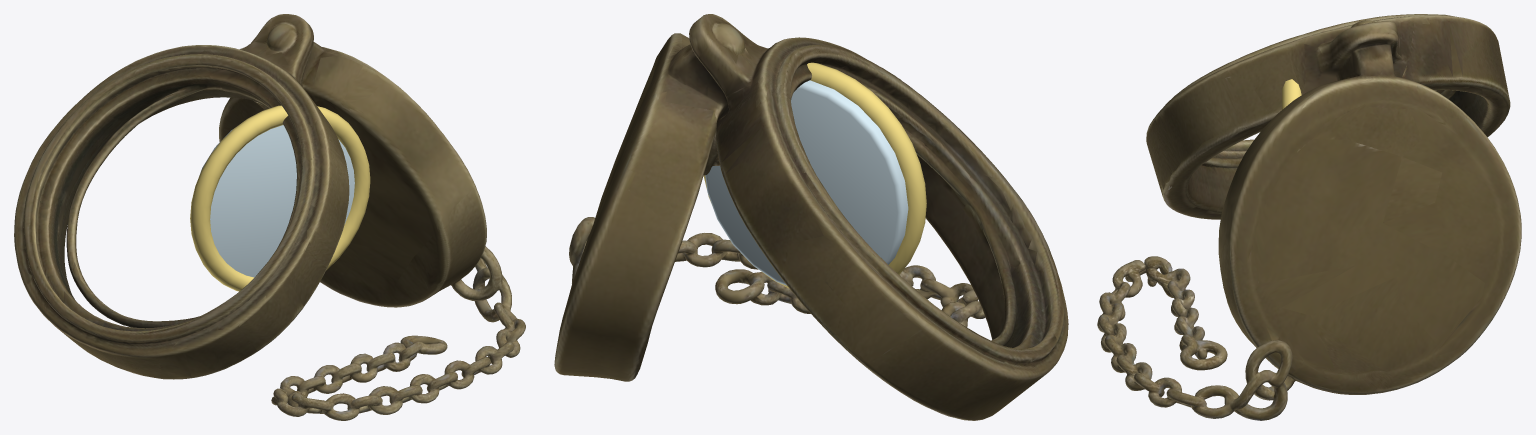
Rendered from Heirloom_BK2.fbx.
3 views of the same model, side by side, from view 1: azimuth 30°, elevation 25°; view 2: azimuth 150°, elevation 25°; view 3: azimuth 270°, elevation 25° (orthographic). The views are drawn at different scales.
Visible parts, largest first — view 1: Body_BK2, GlassLens, LensBrassRing; view 2: Body_BK2, GlassLens, LensBrassRing; view 3: Body_BK2.
Boxes of the visible parts, x1,y1,x2,y2 form: Body_BK2: (14,14,525,420); GlassLens: (200,125,354,277); LensBrassRing: (190,105,370,291); Body_BK2: (554,14,1068,420); GlassLens: (705,80,908,285); LensBrassRing: (703,62,926,288); Body_BK2: (1097,14,1521,420).
Bounding box in the file's own units: 0.24 × 0.1645 × 0.1959.
